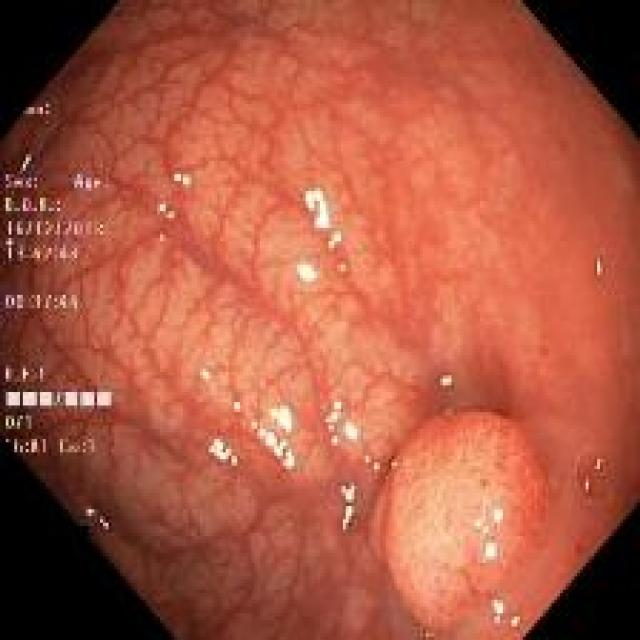Polyps: (370, 413, 550, 635)
